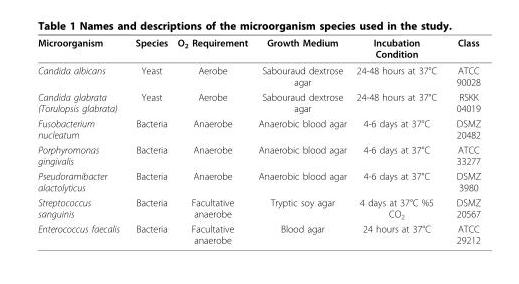table: (37, 36, 479, 245)
table column: (252, 36, 350, 245), (350, 36, 445, 245), (37, 36, 126, 245), (172, 36, 252, 245), (126, 36, 172, 245), (445, 36, 479, 245)
table column header: (37, 36, 479, 61)
table row: (37, 61, 479, 89), (37, 141, 479, 168), (37, 194, 479, 221), (37, 89, 479, 115), (37, 115, 479, 141), (37, 168, 479, 194), (37, 36, 479, 61), (37, 221, 479, 245)
